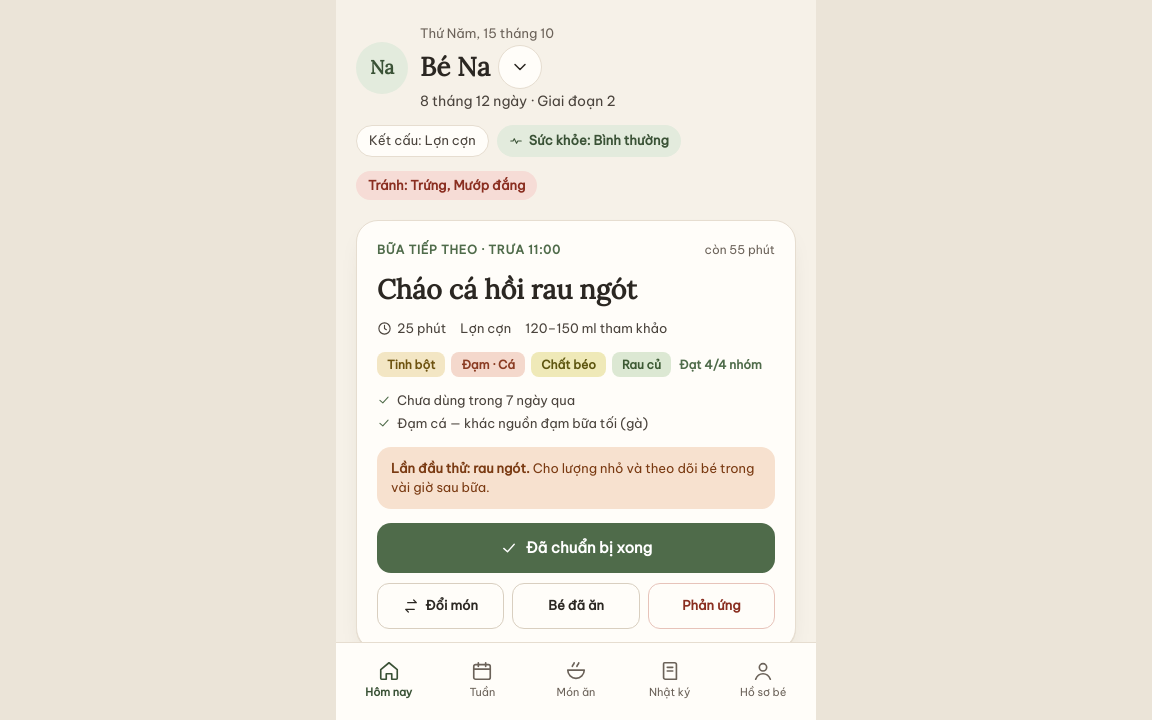
Test case: Choosing a child (G04, FR-117) › keeps working when the device storage is blocked
The image size is (1152, 720).
Step 1. Click the button named "Đổi bé" → (520, 67), box x1=498 y1=45 x2=542 y2=89
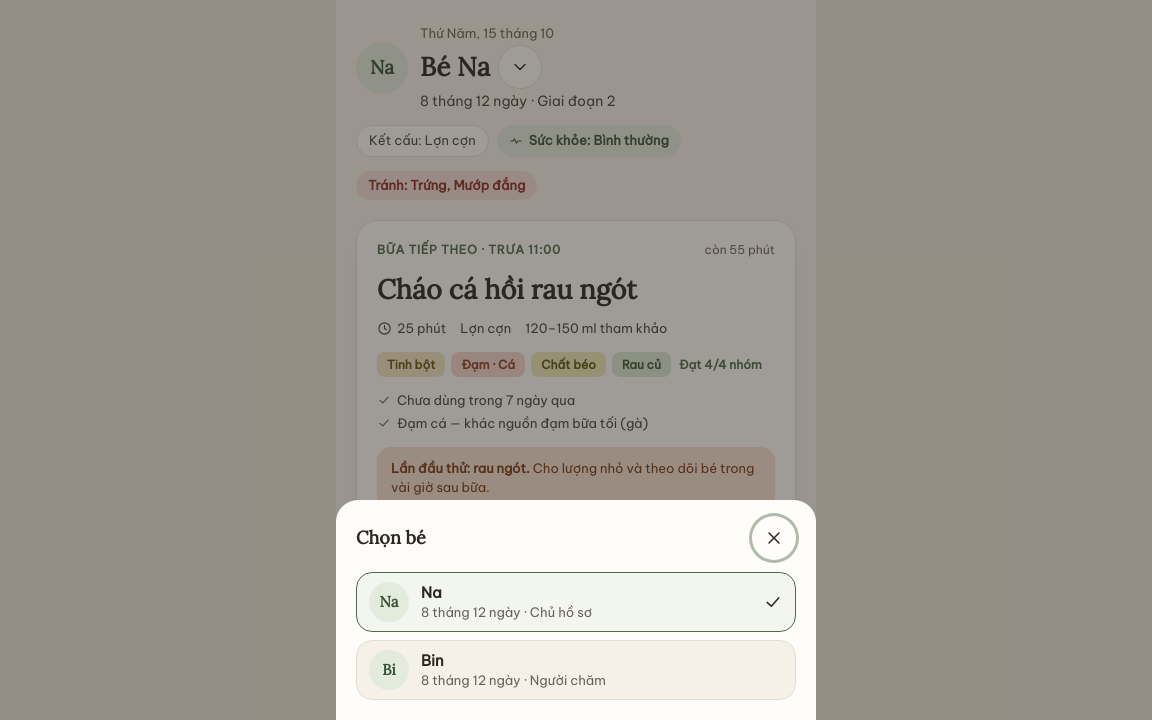
Step 2. Click the button "Bi Bin 8 tháng 12 ngày · Người chăm" → (576, 670), box x1=356 y1=640 x2=796 y2=700
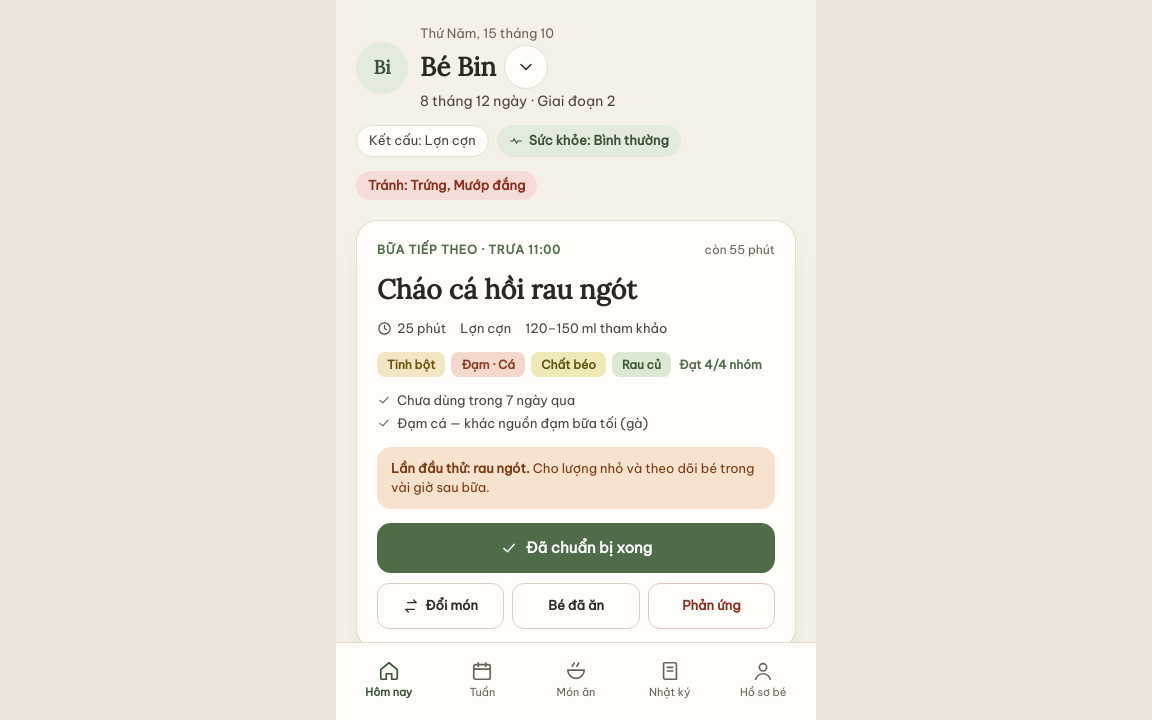
Check: the heading "Bé Bin" is shown, box x1=420 y1=52 x2=496 y2=82
